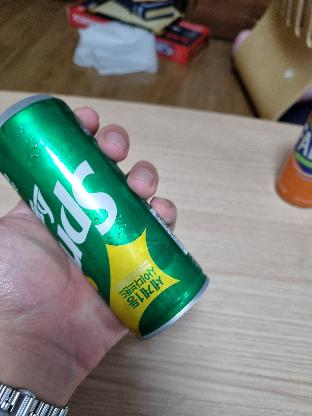Can: (5, 86, 201, 334)
